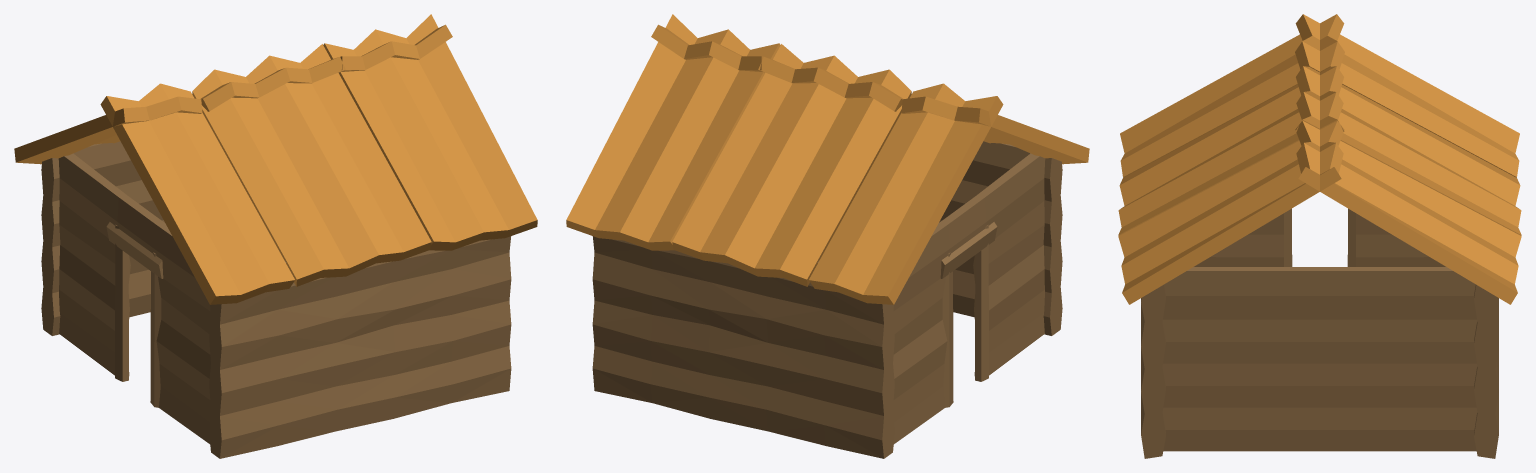
Rendered from bungalov_02.fbx.
The picture shows the model from 3 angles, left to right: view 1: azimuth 30°, elevation 25°; view 2: azimuth 150°, elevation 25°; view 3: azimuth 270°, elevation 25°; orthographic projection.
Visible parts, largest first — view 1: bungalov_02; view 2: bungalov_02; view 3: bungalov_02.
Boxes of the visible parts, box(x1,y1,x2,y2) form: bungalov_02: box(14, 14, 537, 458); bungalov_02: box(566, 14, 1089, 458); bungalov_02: box(1118, 14, 1521, 458).
Size of the model in its own units: 280 by 246 by 299.
